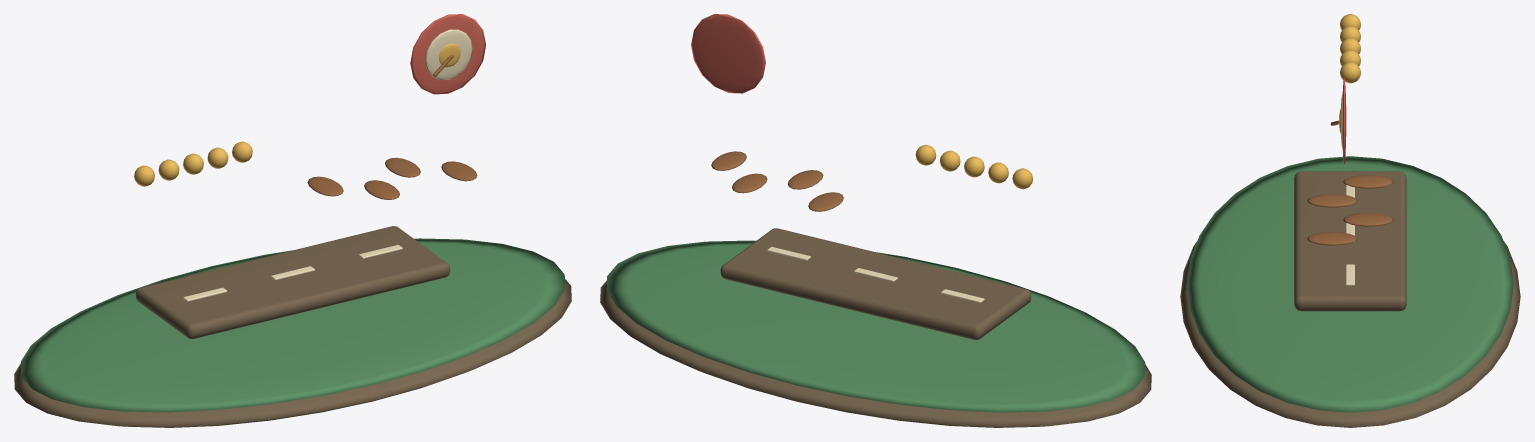
File: complete-second-last-at-back.glb
The picture shows the model from 3 angles, left to right: view 1: azimuth 30°, elevation 25°; view 2: azimuth 150°, elevation 25°; view 3: azimuth 270°, elevation 25°; orthographic projection.
Visible parts, largest first — view 1: complete-second-last-at-back_surface_01, complete-second-last-at-back_surface_00, complete-second-last-at-back_surface_05, complete-second-last-at-back_surface_04, complete-second-last-at-back_surface_03, complete-second-last-at-back_surface_02; view 2: complete-second-last-at-back_surface_01, complete-second-last-at-back_surface_00, complete-second-last-at-back_surface_05, complete-second-last-at-back_surface_03, complete-second-last-at-back_surface_02, complete-second-last-at-back_surface_04; view 3: complete-second-last-at-back_surface_01, complete-second-last-at-back_surface_00, complete-second-last-at-back_surface_03, complete-second-last-at-back_surface_02, complete-second-last-at-back_surface_04, complete-second-last-at-back_surface_05.
Part boxes in pixels (x1,y1,x2,y2): complete-second-last-at-back_surface_01: (21,238,564,412); complete-second-last-at-back_surface_00: (14,226,571,427); complete-second-last-at-back_surface_05: (410,14,485,94); complete-second-last-at-back_surface_04: (183,29,472,301); complete-second-last-at-back_surface_03: (307,54,477,199); complete-second-last-at-back_surface_02: (134,43,460,186); complete-second-last-at-back_surface_01: (606,240,1145,412); complete-second-last-at-back_surface_00: (600,228,1151,427); complete-second-last-at-back_surface_05: (691,14,765,93); complete-second-last-at-back_surface_03: (711,151,843,211); complete-second-last-at-back_surface_02: (915,144,1032,189); complete-second-last-at-back_surface_04: (767,246,984,303); complete-second-last-at-back_surface_01: (1187,156,1513,412); complete-second-last-at-back_surface_00: (1180,171,1520,427); complete-second-last-at-back_surface_03: (1307,120,1393,245); complete-second-last-at-back_surface_02: (1339,14,1360,133); complete-second-last-at-back_surface_04: (1341,94,1354,285); complete-second-last-at-back_surface_05: (1342,77,1346,164).
Size of the model in its own units: 4.56 by 2.48 by 2.5.
